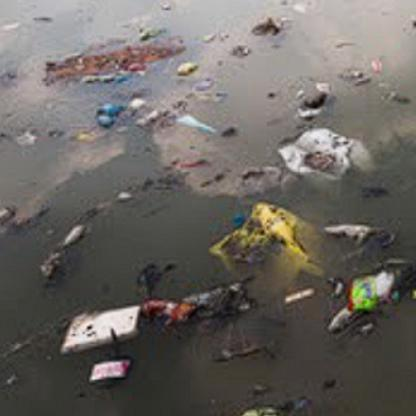Trash: (212, 198, 312, 290), (280, 124, 375, 181), (48, 304, 151, 350), (336, 265, 396, 323), (81, 355, 136, 384)
